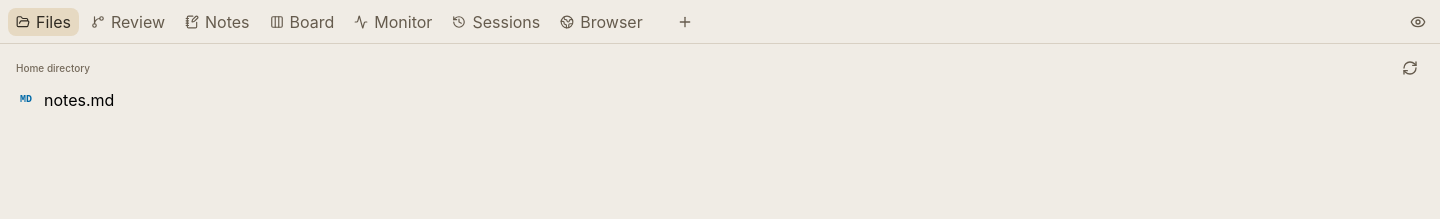
it: SidePane files › hides Home dotfiles by default and reveals them on request
Expected: the button "MD notes.md" is shown, [8,84,1432,116]
Expected: the button ".bashrc" is not shown
Click the button named "Show hidden files".
click(1418, 22)  # box [1404,8,1432,36]
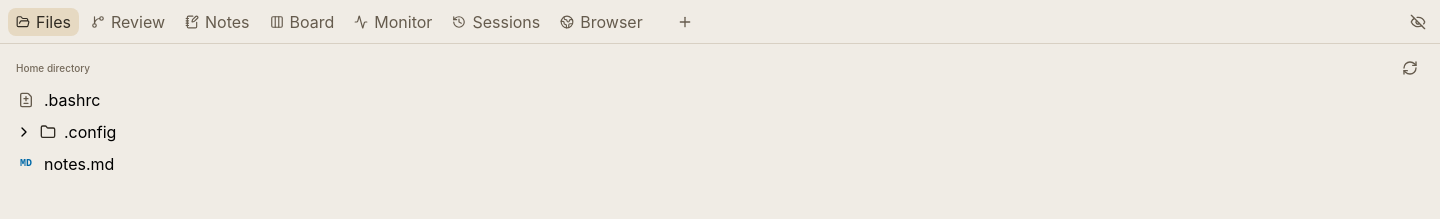
Click the button ".config".
click(90, 132)  # box [8,116,1432,148]
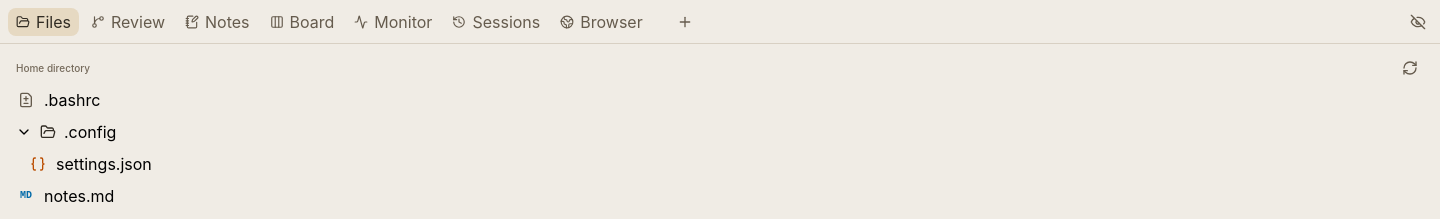
Now the button "settings.json" is shown, box [20,148,1432,180]
